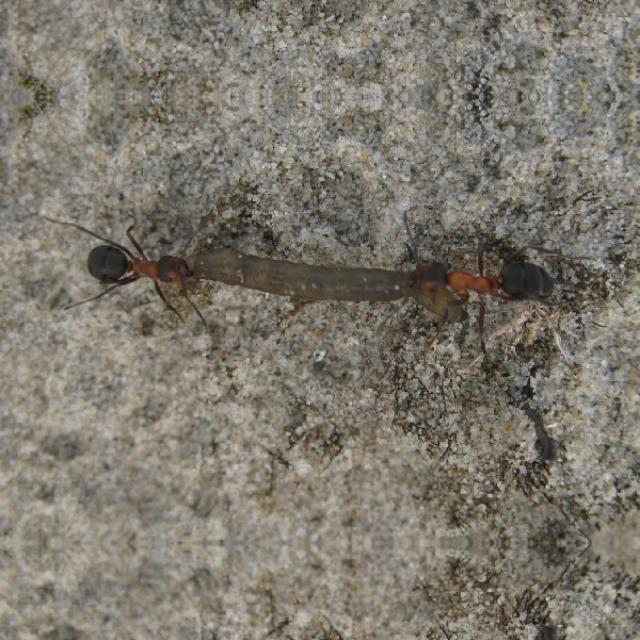Formica: (406, 244, 564, 316), (93, 214, 203, 308)
